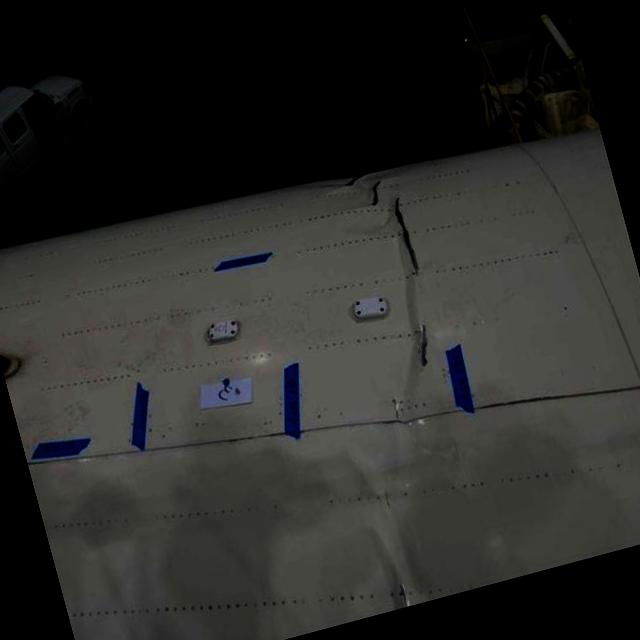crack: (386, 188, 424, 276), (409, 318, 441, 368), (357, 172, 395, 214)
